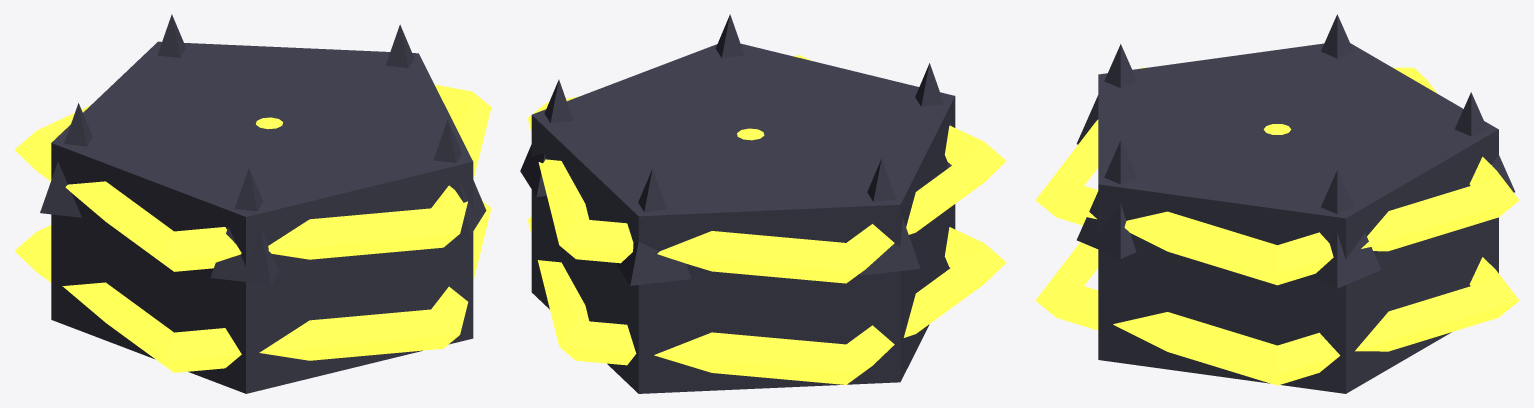
File: enemy_miniboss.glb
3 views of the same model, side by side, from view 1: azimuth 30°, elevation 25°; view 2: azimuth 150°, elevation 25°; view 3: azimuth 270°, elevation 25° (orthographic).
Visible parts, largest first — view 1: enemy_miniboss; view 2: enemy_miniboss; view 3: enemy_miniboss.
Boxes of the visible parts, x1,y1,x2,y2 form: enemy_miniboss: (14, 14, 491, 393); enemy_miniboss: (520, 14, 1006, 393); enemy_miniboss: (1035, 14, 1519, 393).
Size of the model in its own units: 0.8729 by 0.43 by 0.875.
